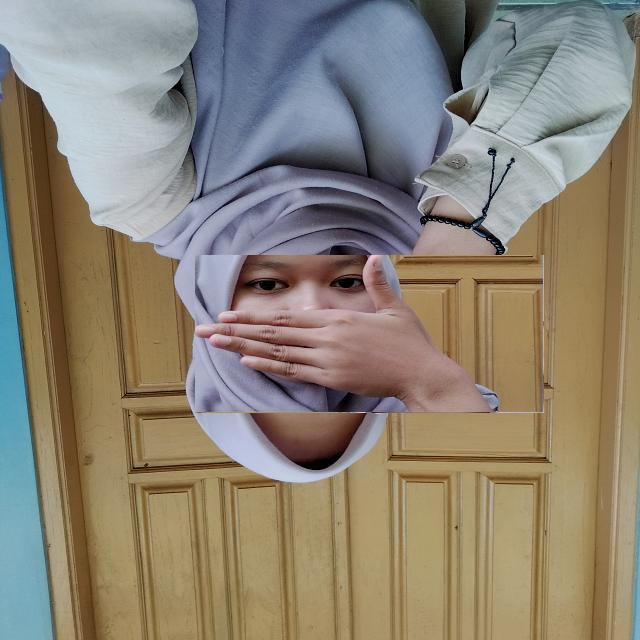buruk: (195, 255, 544, 413)
